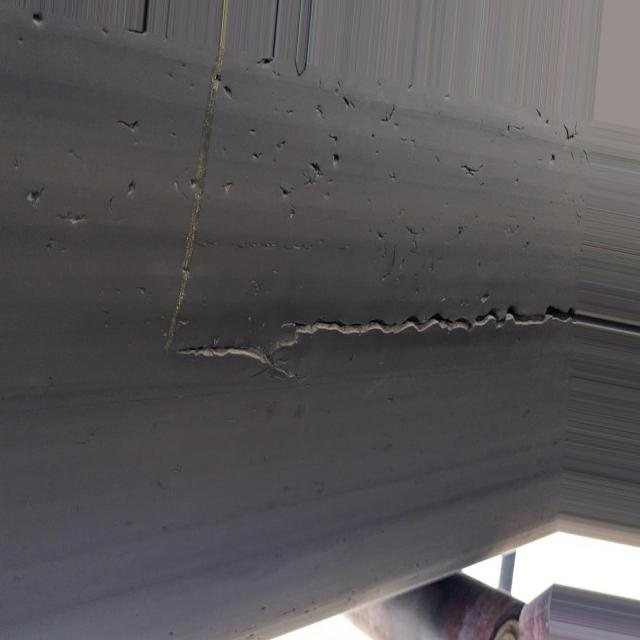Puncture: (237, 80, 354, 212), (113, 166, 152, 209), (28, 171, 44, 218), (63, 205, 89, 225), (29, 9, 48, 35)
Roller: (347, 571, 529, 640)
Tear: (154, 0, 640, 375)
